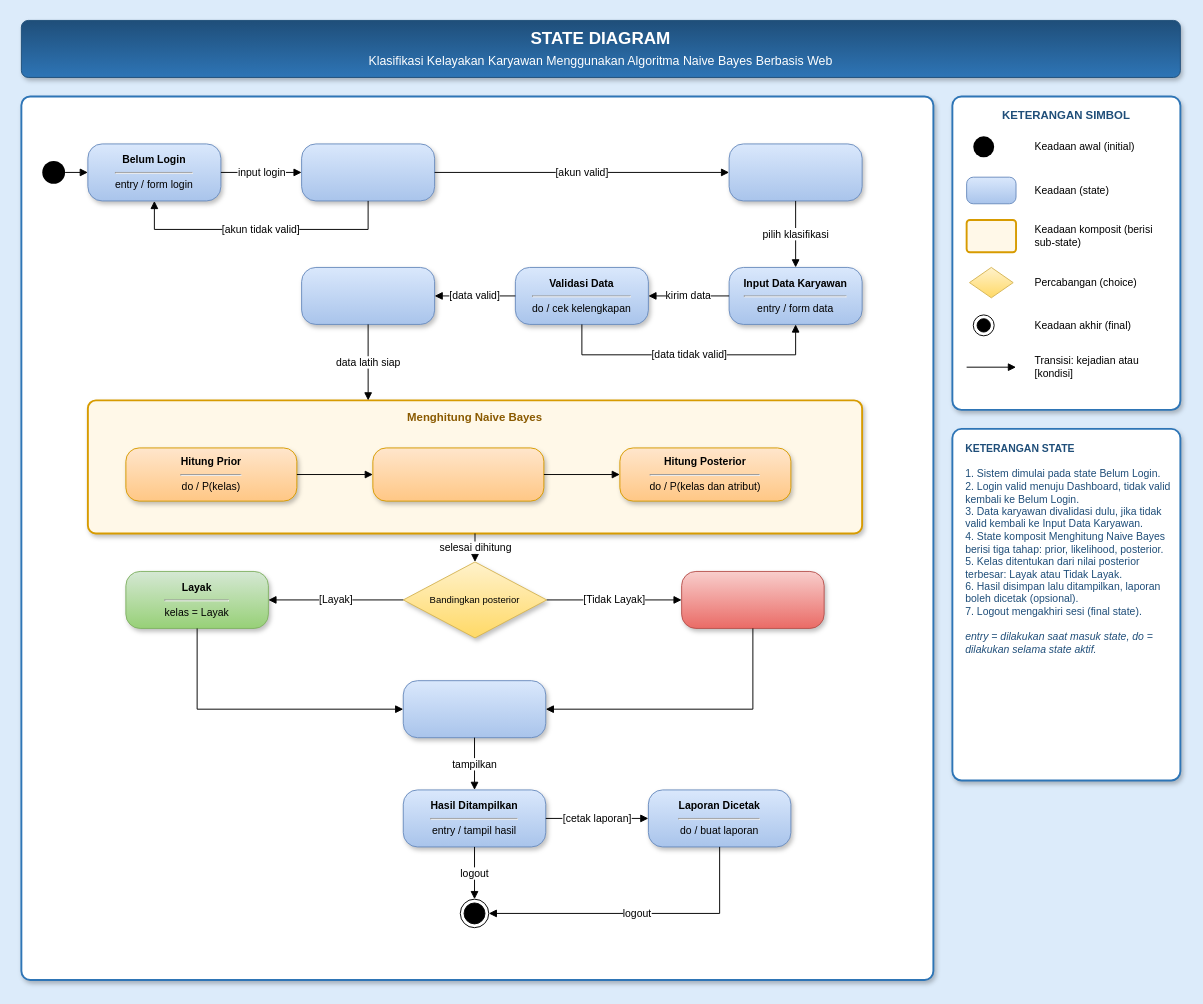
This 1203x1004 diagram has some shape labels left out. The shapes that lost their labels are listed below. From the top down, each one's centre as x and y in pixels, then its label:
(x=368, y=173): Validasi Login do / cek akun
(x=796, y=173): Dashboard entry / tampil menu
(x=368, y=297): Memuat Data Latih do / ambil dari database
(x=459, y=475): Hitung Likelihood do / P(atribut dan kelas)
(x=753, y=601): Tidak Layak kelas = Tidak Layak
(x=475, y=710): Hasil Tersimpan do / simpan ke database
